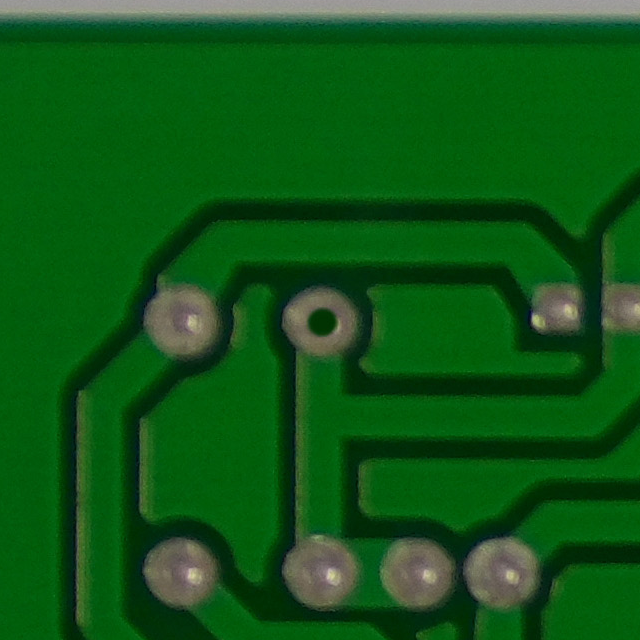missing_hole: (281, 278, 360, 363)
